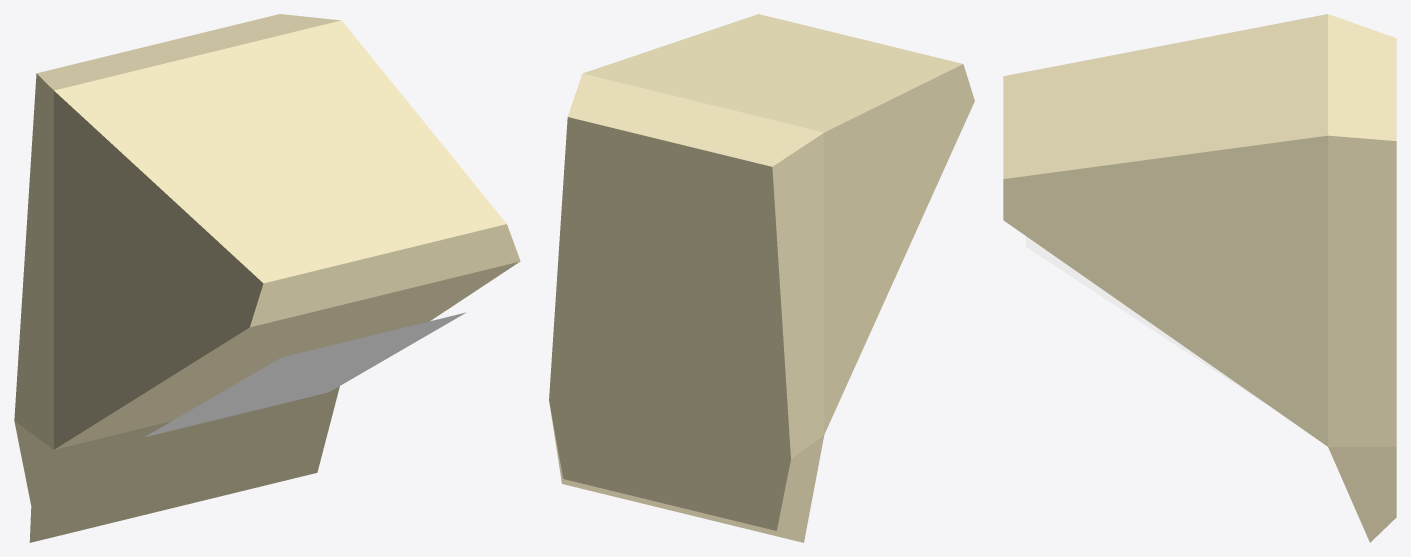
3 renders of one model, left to right at view 1: azimuth 30°, elevation 25°; view 2: azimuth 150°, elevation 25°; view 3: azimuth 270°, elevation 25°, orthographic. The views are drawn at different scales.
Parts seen in each view (by area): view 1: Cube.002, Plane; view 2: Cube.002; view 3: Cube.002, Plane.
Part boxes in pixels (x1,y1,x2,y2): Cube.002: (14, 14, 520, 542); Plane: (144, 312, 466, 437); Cube.002: (549, 14, 974, 542); Cube.002: (1003, 14, 1396, 542); Plane: (1026, 236, 1264, 403).
Size of the model in its own units: 83.79 by 131 by 115.
